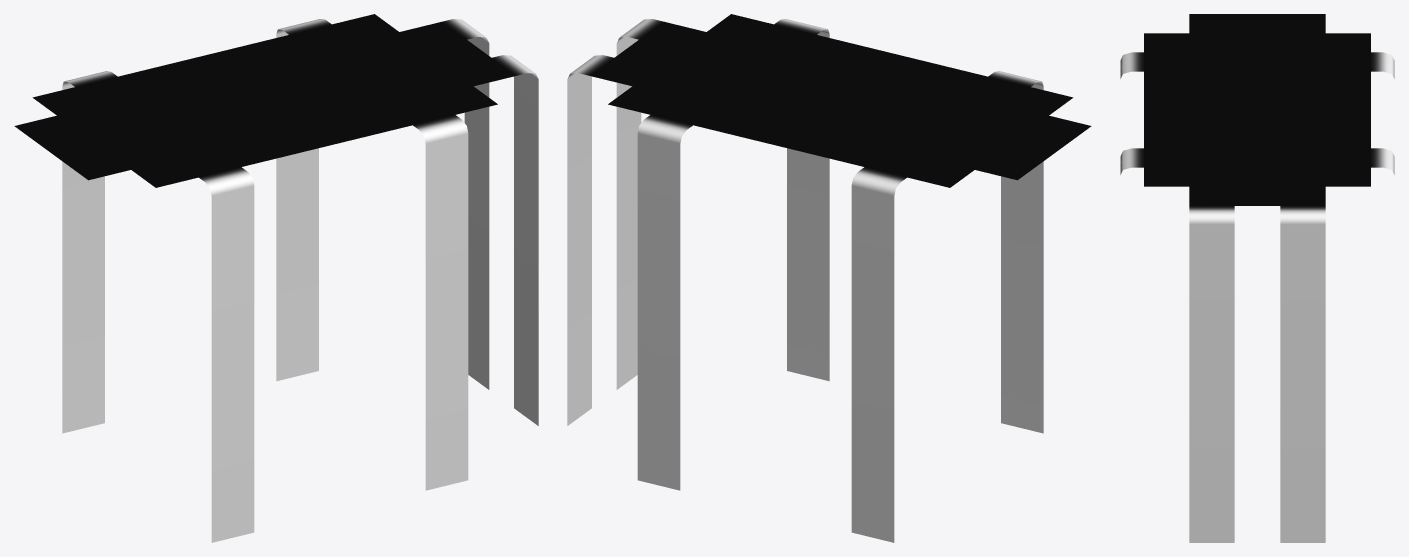
The model's file is ghostRoom1_MESH.fbx.
The picture shows the model from 3 angles, left to right: view 1: azimuth 30°, elevation 25°; view 2: azimuth 150°, elevation 25°; view 3: azimuth 270°, elevation 25°; orthographic projection. The views are drawn at different scales.
Parts seen in each view (by area): view 1: ghostRoom1; view 2: ghostRoom1; view 3: ghostRoom1.
Boxes of the visible parts, x1,y1,x2,y2 form: ghostRoom1: (14,14,538,542); ghostRoom1: (567,14,1091,542); ghostRoom1: (1120,14,1394,542).
Size of the model in its own units: 10.52 by 7.95 by 6.05.
1 material, 1 textured.
